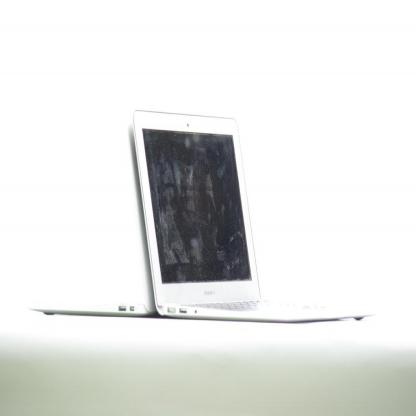board: (134, 113, 375, 327), (28, 109, 156, 318)
